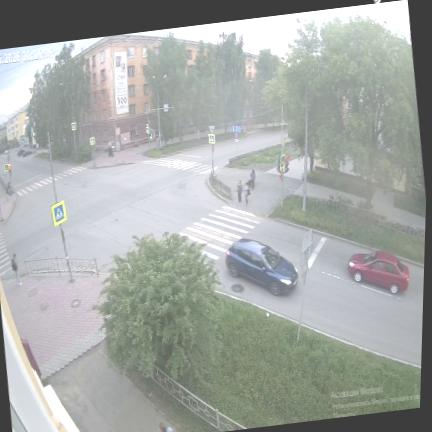car: (225, 238, 299, 296), (348, 251, 410, 294), (16, 148, 26, 156), (23, 150, 32, 157)
cyclist: (108, 146, 113, 157)
human: (11, 254, 21, 285), (159, 423, 174, 431), (244, 184, 249, 205), (237, 181, 242, 202), (251, 170, 256, 188), (7, 183, 11, 195), (5, 185, 8, 200)
lightPole: (59, 83, 76, 148), (154, 75, 167, 149), (303, 80, 309, 210)
pedestianCross: (180, 206, 260, 260), (16, 166, 85, 196), (142, 158, 211, 173), (0, 233, 11, 277)
pedestrianSign: (47, 133, 74, 283), (209, 126, 215, 176), (90, 125, 96, 167)
sign: (297, 229, 313, 342), (233, 126, 240, 149)
trafficLight: (277, 105, 288, 207), (146, 110, 155, 152), (5, 149, 11, 182), (0, 205, 3, 221)
